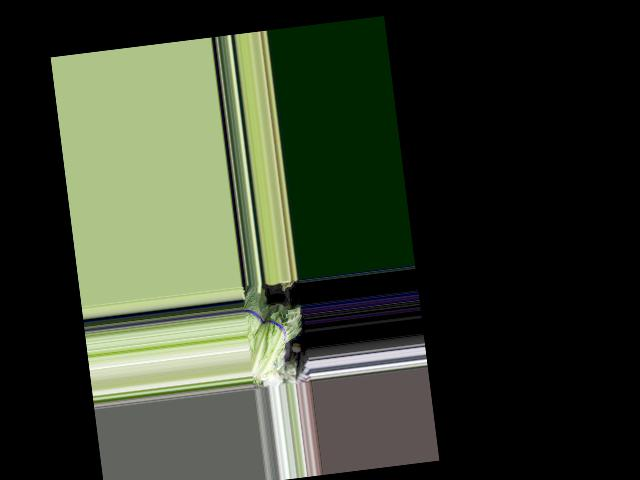lettuce: (243, 303, 303, 374)
